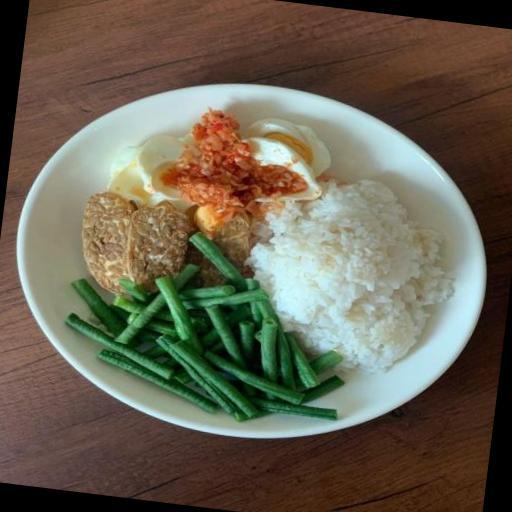buncis_rebus: (87, 259, 292, 432)
nasi_putih: (288, 167, 470, 384)
tempe_goreng: (64, 186, 196, 302)
